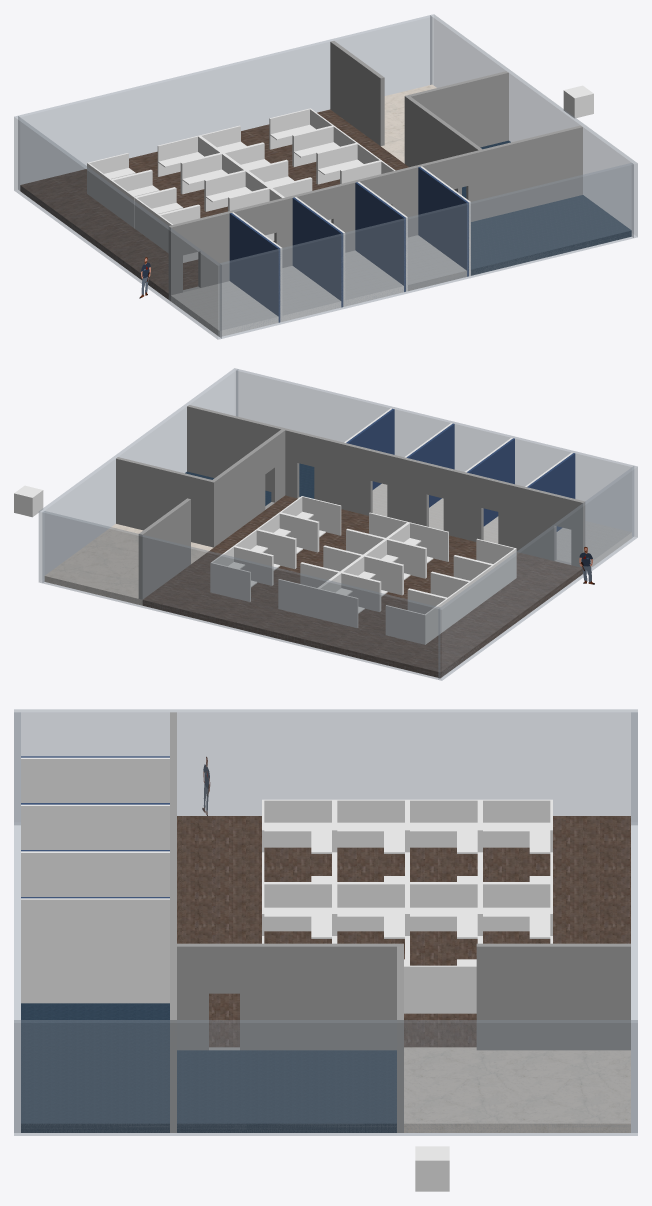
File: Office Room (2).fbx
3 views of the same model, one above another, from view 1: azimuth 30°, elevation 25°; view 2: azimuth 150°, elevation 25°; view 3: azimuth 270°, elevation 25° (orthographic). The views are drawn at different scales.
Visible parts, largest first — view 1: Wall_2_1, Wall_4_1, Wall_2_1_1, Wall_1_1, Floor1, Wall_1_1_1, conference_floor_1_1, Office_1_1_1, Wall_1_3_1, Office_1_6_1, Office_1_7_1, Office_1_5_1 (+25 smaller); view 2: Wall_4_1, Wall_2_1_1, Floor1, Wall_2_1, Wall_1_1, Wall_1_1_1, Office_1_1_1, Reception1, Wall_1_2_1, Wall_1_3_1, Cubical_1_13_1, Cubical_1_1 (+22 smaller); view 3: Wall_1_1_1, Wall_1_1, Floor1, Wall_1_2_1, conference_floor_1_1, Reception1, Conference_room_2_1, Wall_1_3_1, Office_1_2_1, Office_1_1, Office_1_3_1, Office_1_4_1 (+22 smaller).
Boxes of the visible parts, x1,y1,x2,y2 form: Wall_2_1: [220, 163, 633, 338]; Wall_4_1: [18, 15, 431, 190]; Wall_2_1_1: [168, 125, 582, 301]; Wall_1_1: [14, 116, 221, 339]; Floor1: [20, 109, 408, 299]; Wall_1_1_1: [430, 14, 637, 237]; conference_floor_1_1: [471, 195, 631, 275]; Office_1_1_1: [405, 71, 508, 147]; Wall_1_3_1: [330, 41, 384, 146]; Office_1_6_1: [292, 197, 343, 307]; Office_1_7_1: [229, 213, 280, 322]; Office_1_5_1: [355, 182, 405, 291]; Wall_4_1: [42, 511, 439, 679]; Wall_2_1_1: [187, 405, 585, 573]; Floor1: [142, 495, 582, 678]; Wall_2_1: [236, 369, 633, 537]; Wall_1_1: [438, 466, 637, 680]; Wall_1_1_1: [39, 368, 237, 582]; Office_1_1_1: [116, 457, 213, 547]; Reception1: [44, 524, 213, 605]; Wall_1_2_1: [212, 429, 285, 547]; Wall_1_3_1: [138, 498, 190, 599]; Cubical_1_13_1: [385, 589, 448, 644]; Cubical_1_1: [318, 572, 380, 627]; Wall_1_1_1: [14, 1020, 637, 1135]; Wall_1_1: [14, 709, 637, 824]; Floor1: [177, 816, 630, 1047]; Wall_1_2_1: [177, 943, 403, 1050]; conference_floor_1_1: [21, 1003, 169, 1132]; Reception1: [404, 1047, 630, 1132]; Conference_room_2_1: [177, 1050, 396, 1132]; Wall_1_3_1: [476, 943, 630, 1050]; Office_1_2_1: [21, 898, 169, 1003]; Office_1_1: [21, 757, 169, 802]; Office_1_3_1: [21, 851, 169, 896]; Office_1_4_1: [21, 804, 169, 849].
Bounding box in the file's own units: 1068 × 144 × 720.
